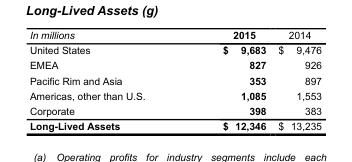table: (28, 29, 320, 131)
table column: (28, 29, 183, 131), (183, 29, 271, 131), (271, 29, 320, 131)
table column header: (28, 29, 320, 42)
table row: (28, 42, 320, 57), (28, 57, 320, 72), (28, 72, 320, 87), (28, 87, 320, 102), (28, 102, 320, 117), (28, 117, 320, 131), (28, 29, 320, 42)
